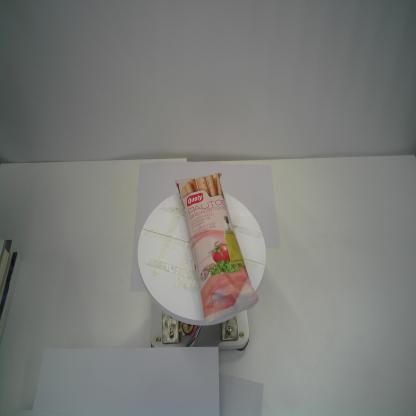Dessert: (173, 170, 260, 328)
